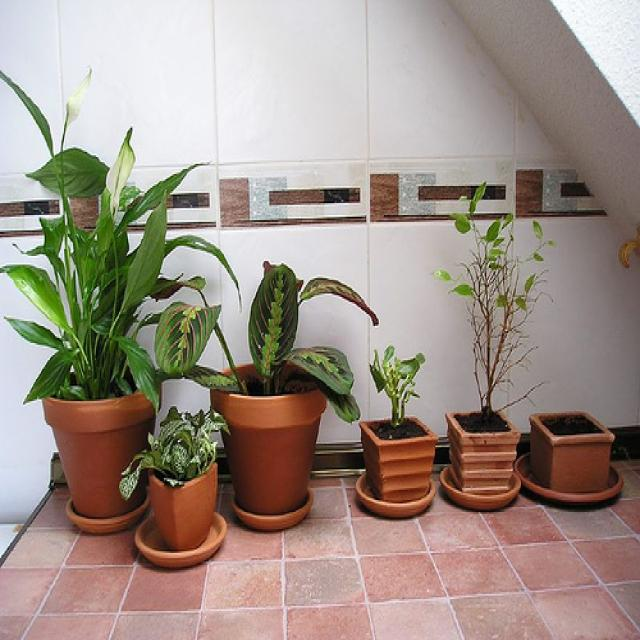pottedplant: (1, 64, 242, 537), (210, 261, 380, 534), (432, 182, 554, 515), (117, 406, 234, 575), (356, 344, 440, 522)
